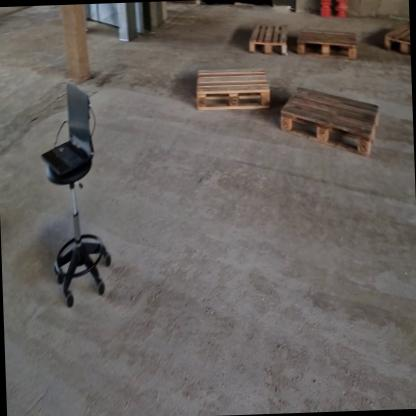BoxFace: (278, 82, 382, 165), (194, 60, 272, 113), (296, 21, 358, 66), (246, 17, 290, 61), (380, 15, 411, 61)
